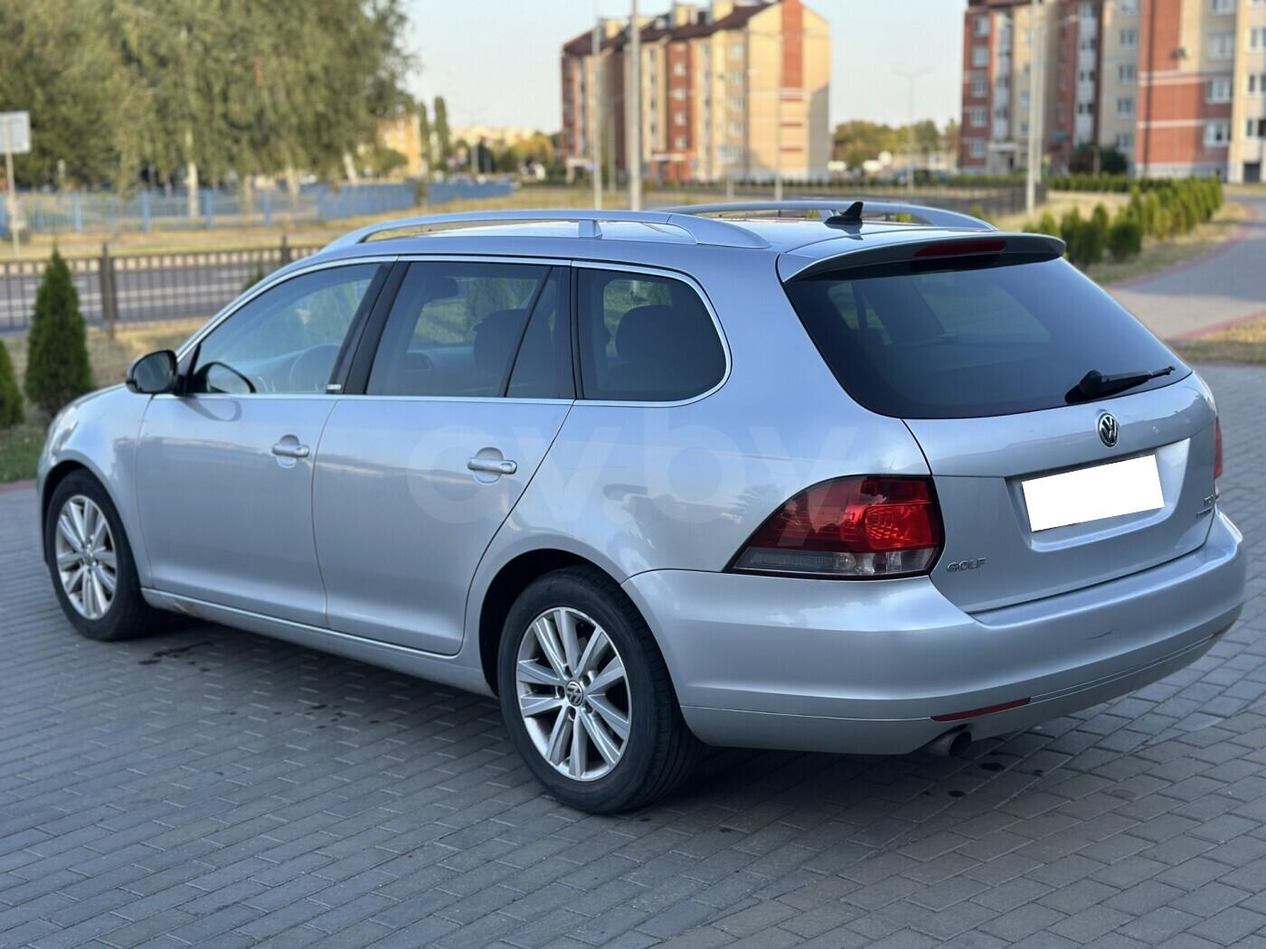Golf_2008-2013: (33, 205, 1252, 805)
